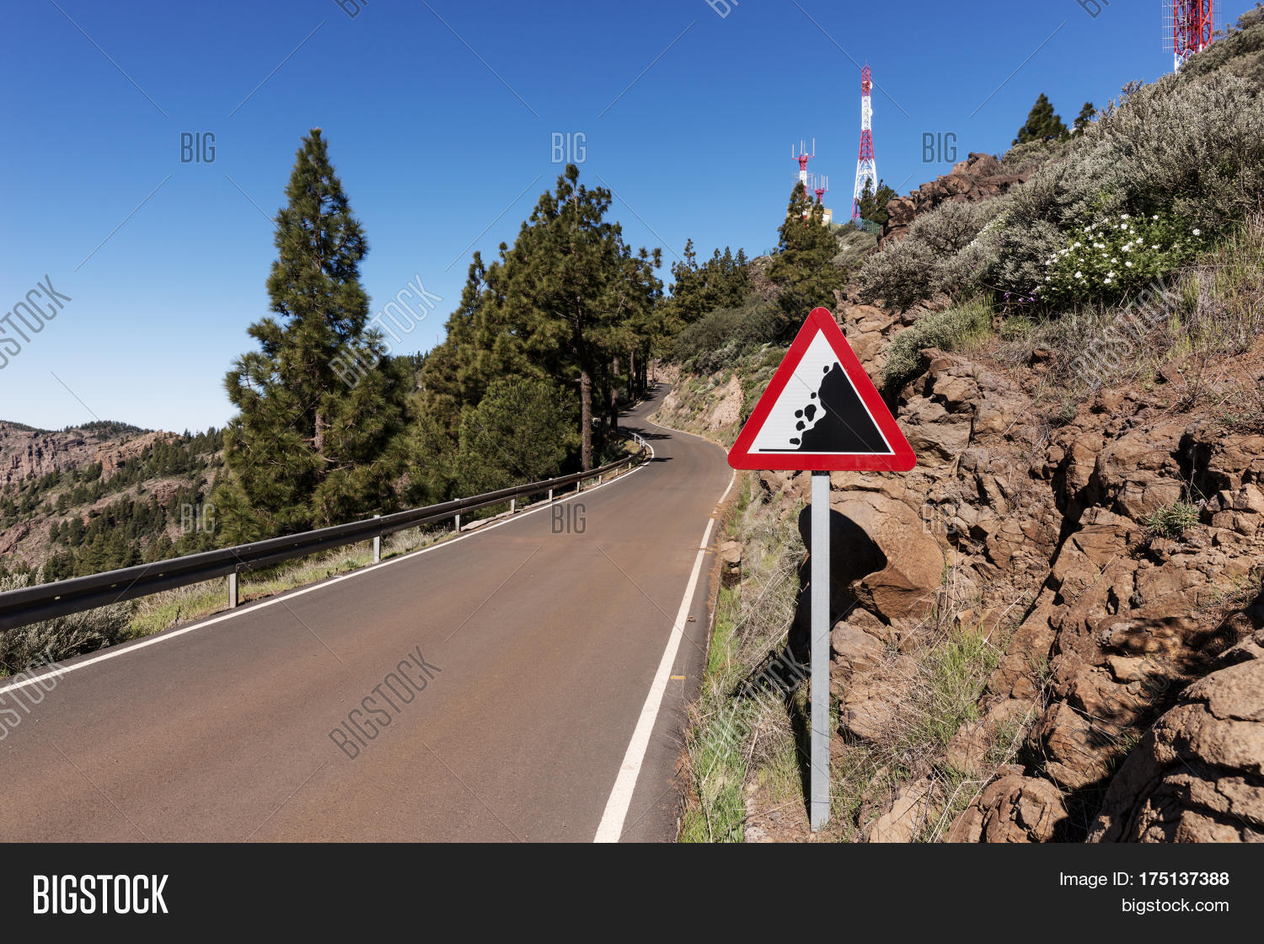FallenSign: (725, 306, 933, 485)
Tree: (217, 126, 414, 555), (474, 159, 658, 472), (750, 178, 841, 335)
